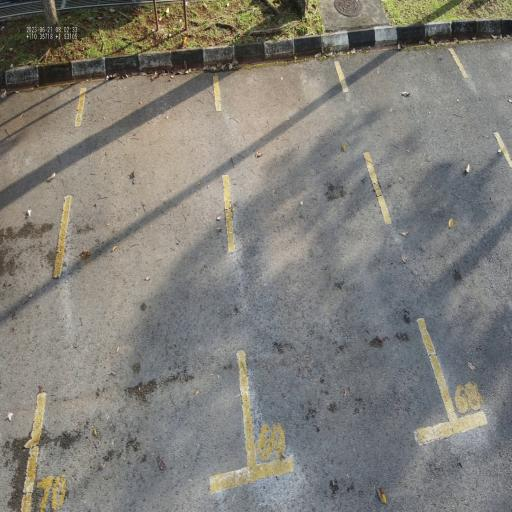Empty: (14, 49, 261, 512), (212, 48, 467, 483)
